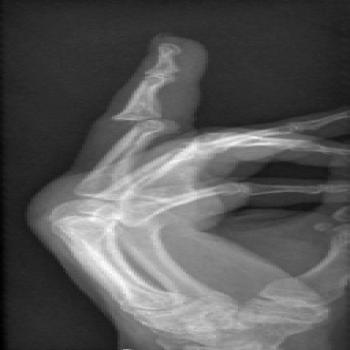Fracture: (106, 111, 185, 134)
